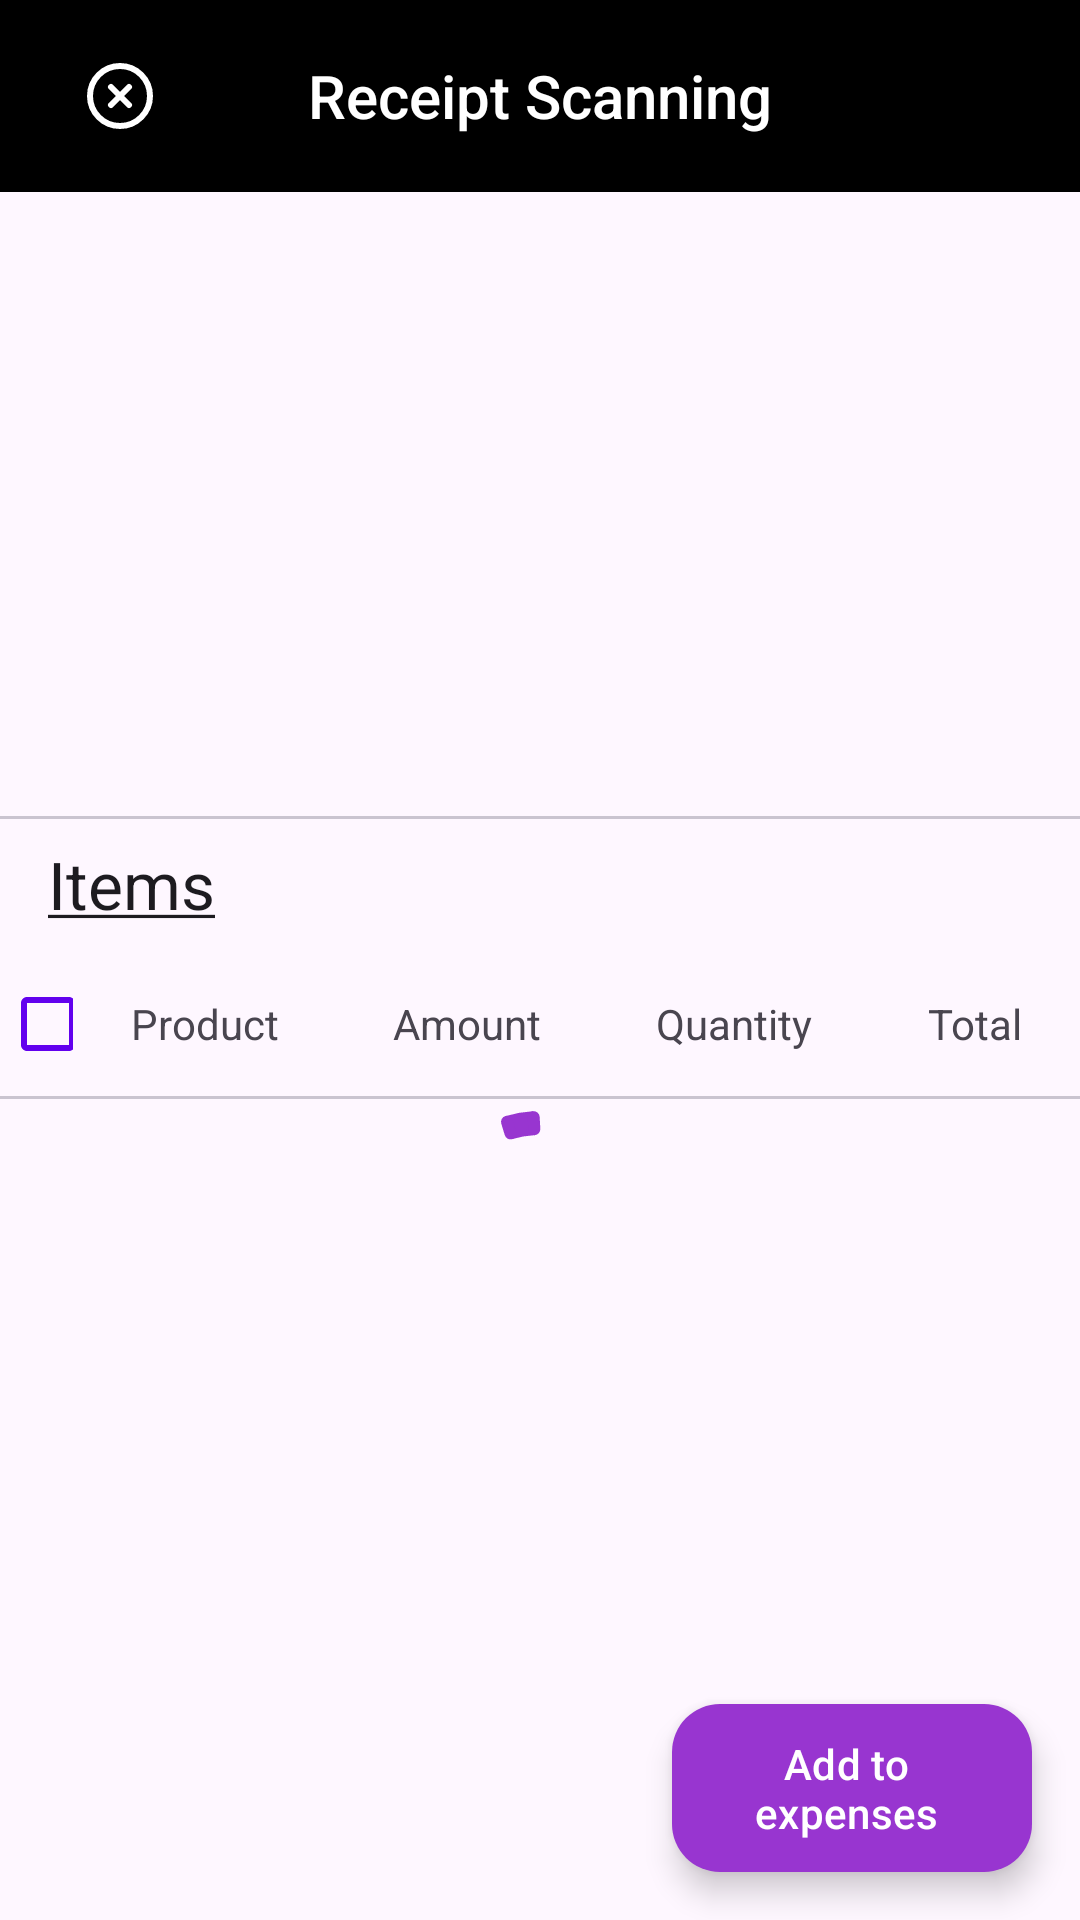

Point at icon controls on the screen. Image size 1080 × 1920, points as (x=x, y=y).
Exit: (x=120, y=96)
